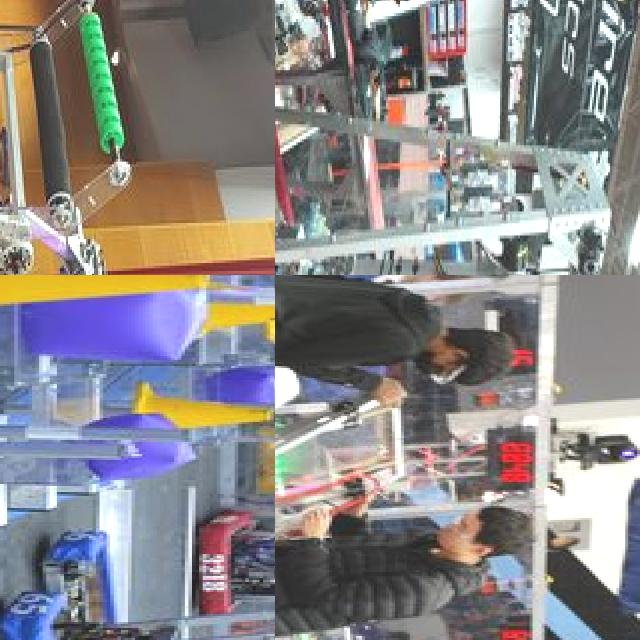FRC-Robots: (275, 34, 609, 275), (0, 0, 258, 275), (0, 435, 275, 640), (275, 397, 407, 636), (190, 513, 275, 621)
